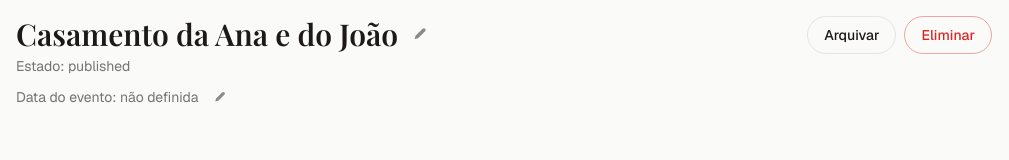
it: AlbumDetail — data do evento › guarda a data escolhida e mostra-a por extenso em português
The image size is (1009, 160).
Expected: the text "Data do evento: não definida" is shown, top-left (16, 87), bottom-right (198, 107)
Click the button named "Definir data do evento" at (220, 97), box top-left (206, 84), bottom-right (232, 110)
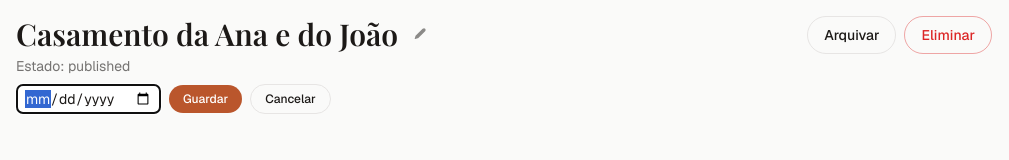
Type "2026-08-17" into the date field named "Data do evento" at (88, 99), box top-left (16, 84), bottom-right (161, 114)
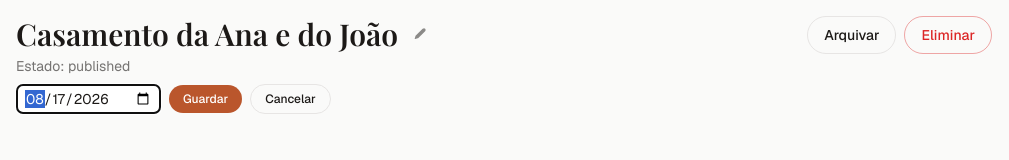
Click the button "Guardar" at (206, 99), box top-left (169, 85), bottom-right (242, 113)
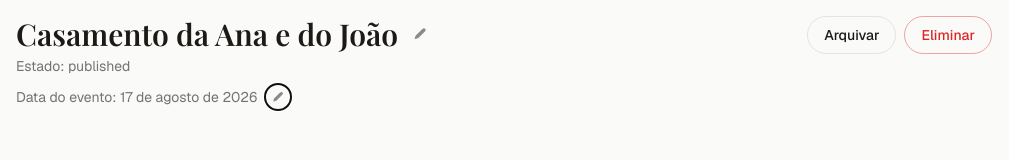
Expected: the text "Data do evento: 17 de agosto de 2026" is shown, top-left (16, 87), bottom-right (257, 107)
